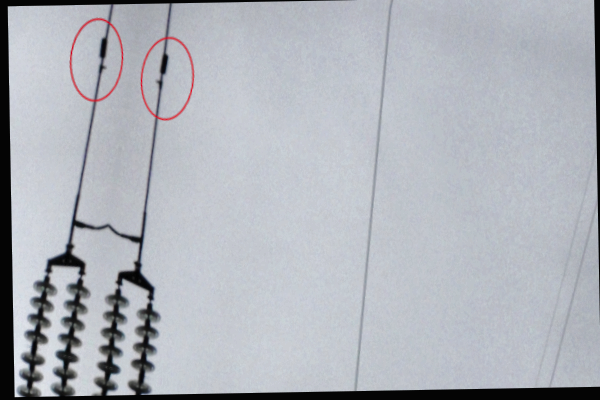damper_defect: (152, 50, 170, 92), (94, 35, 109, 75)
